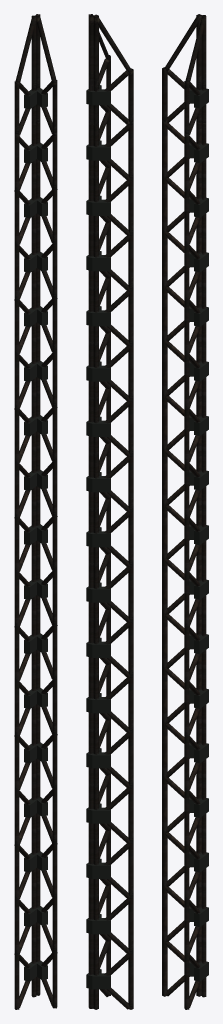
Rendered from Pylone2.fbx.
3 renders of one model, left to right at view 1: azimuth 30°, elevation 25°; view 2: azimuth 150°, elevation 25°; view 3: azimuth 330°, elevation 25°, orthographic.
Parts seen in each view (by area): view 1: Pylone2; view 2: Pylone2; view 3: Pylone2.
Part boxes in pixels (left/top/right/bottom): Pylone2: left=14, top=14, right=57, bottom=1009; Pylone2: left=86, top=14, right=133, bottom=1009; Pylone2: left=162, top=14, right=208, bottom=1009.
Bounding box in the file's own units: 14.84 × 395 × 14.96.
